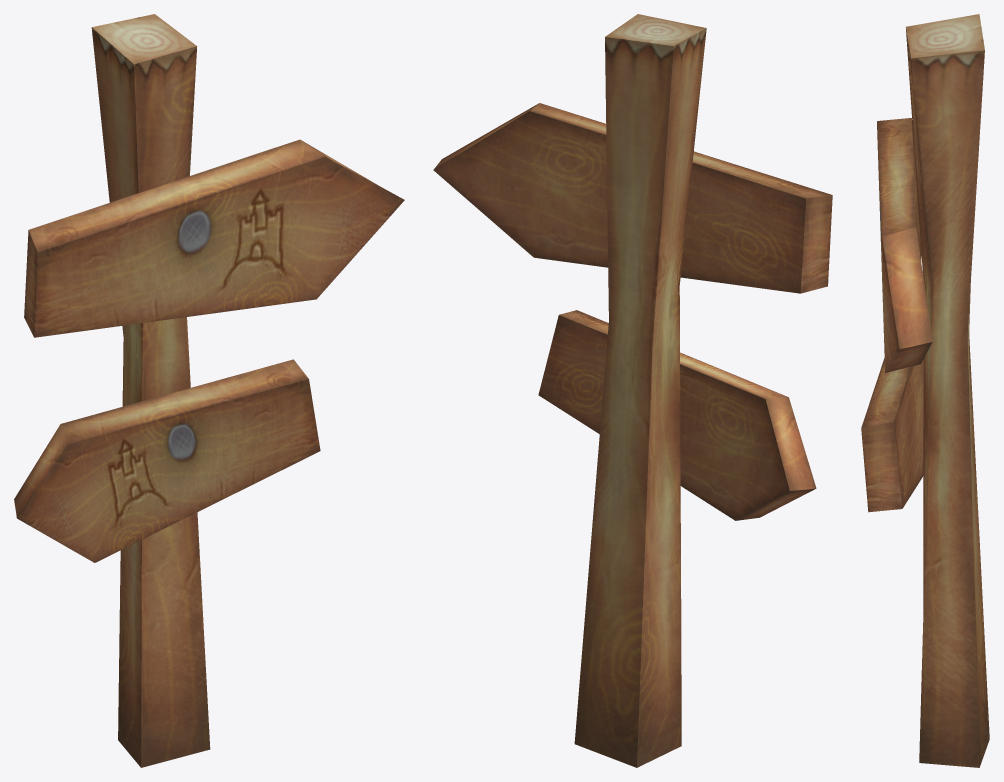
Rendered from BKS_Set3_SignA.fbx.
The picture shows the model from 3 angles, left to right: view 1: azimuth 30°, elevation 25°; view 2: azimuth 150°, elevation 25°; view 3: azimuth 270°, elevation 25°; orthographic projection. The views are drawn at different scales.
Parts seen in each view (by area): view 1: signA; view 2: signA; view 3: signA.
Part boxes in pixels (x1,y1,x2,y2): signA: [14, 14, 404, 767]; signA: [433, 14, 832, 767]; signA: [861, 14, 989, 767].
Size of the model in its own units: 2.19 by 3.98 by 0.6523.
